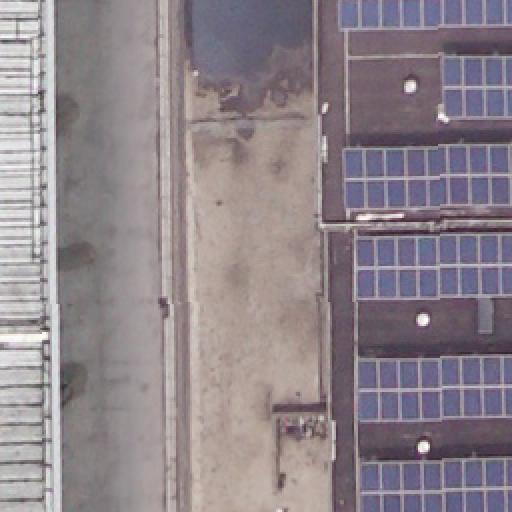solar-panel: (344, 147, 512, 213), (352, 355, 512, 421), (352, 234, 512, 298), (353, 458, 511, 510), (340, 0, 512, 26), (444, 56, 512, 120)
